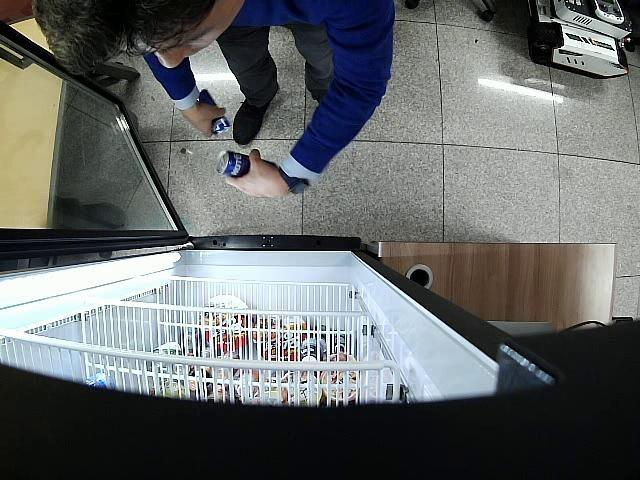16_hot6: (215, 150, 279, 178), (198, 89, 230, 136)
